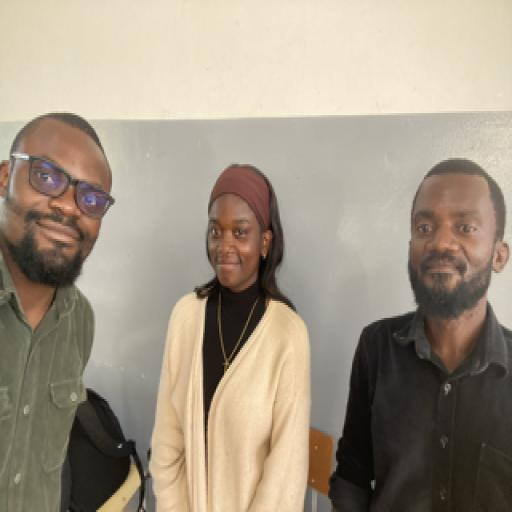JEANLUC: (2, 95, 118, 298)
LAURENE: (204, 154, 282, 309)
MATTHIEU: (410, 147, 509, 331)
